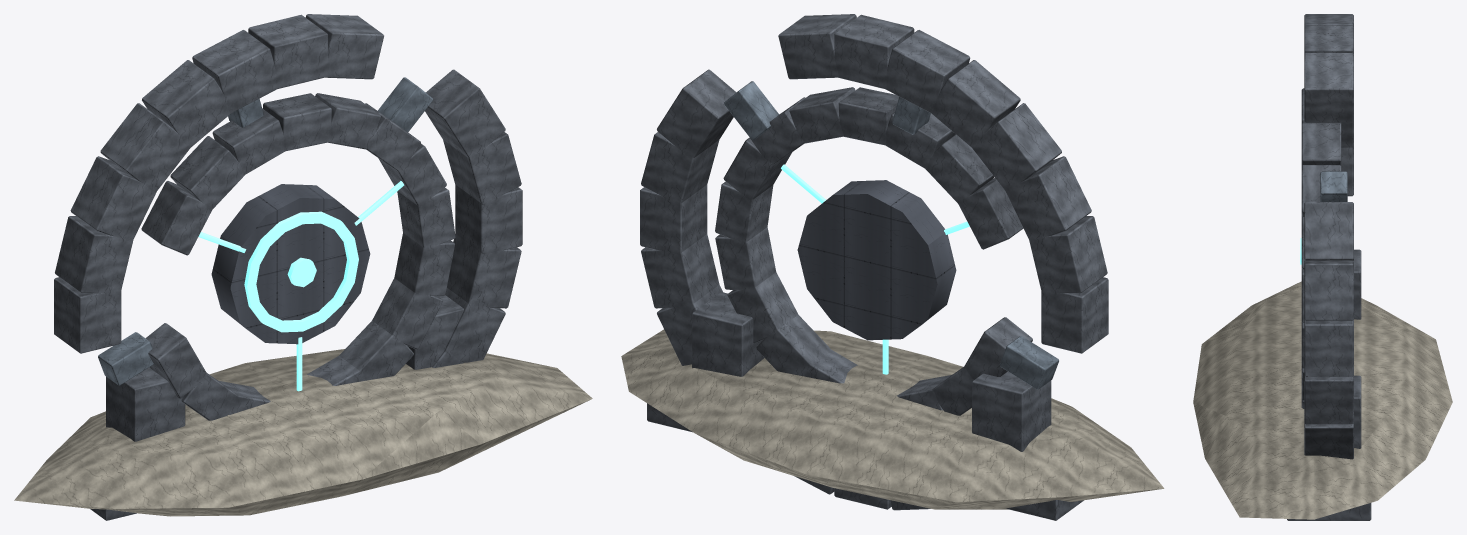
File: relic_buried.glb
The picture shows the model from 3 angles, left to right: view 1: azimuth 30°, elevation 25°; view 2: azimuth 150°, elevation 25°; view 3: azimuth 270°, elevation 25°; orthographic projection. The views are drawn at different scales.
Parts seen in each view (by area): view 1: DL012_AncientRelic_Buried_relic_stone, DL012_AncientRelic_Buried_sediment, DL012_AncientRelic_Buried_metal_dark, DL012_AncientRelic_Buried_emissive_teal, DL012_AncientRelic_Buried_stone_blue; view 2: DL012_AncientRelic_Buried_relic_stone, DL012_AncientRelic_Buried_sediment, DL012_AncientRelic_Buried_metal_dark, DL012_AncientRelic_Buried_stone_blue, DL012_AncientRelic_Buried_emissive_teal; view 3: DL012_AncientRelic_Buried_sediment, DL012_AncientRelic_Buried_relic_stone, DL012_AncientRelic_Buried_stone_blue.
Boxes of the visible parts, <box> form: DL012_AncientRelic_Buried_relic_stone: <box>54,14,522,520</box>; DL012_AncientRelic_Buried_sediment: <box>14,349,592,516</box>; DL012_AncientRelic_Buried_metal_dark: <box>211,184,370,344</box>; DL012_AncientRelic_Buried_emissive_teal: <box>198,181,404,391</box>; DL012_AncientRelic_Buried_stone_blue: <box>98,77,432,385</box>; DL012_AncientRelic_Buried_relic_stone: <box>640,14,1108,520</box>; DL012_AncientRelic_Buried_sediment: <box>621,329,1164,509</box>; DL012_AncientRelic_Buried_metal_dark: <box>797,180,956,340</box>; DL012_AncientRelic_Buried_stone_blue: <box>724,81,1058,389</box>; DL012_AncientRelic_Buried_emissive_teal: <box>781,164,969,374</box>; DL012_AncientRelic_Buried_sediment: <box>1193,281,1452,519</box>; DL012_AncientRelic_Buried_relic_stone: <box>1287,14,1371,520</box>; DL012_AncientRelic_Buried_stone_blue: <box>1320,171,1347,201</box>.
Size of the model in its own units: 11.65 by 9.5 by 5.23.
Materials: 5 (4 with a texture image).
